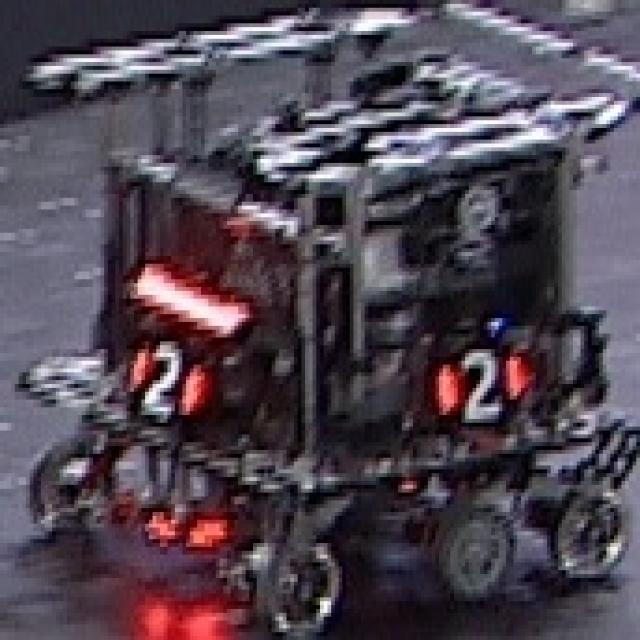R2: (413, 339, 532, 425), (102, 336, 206, 428)
